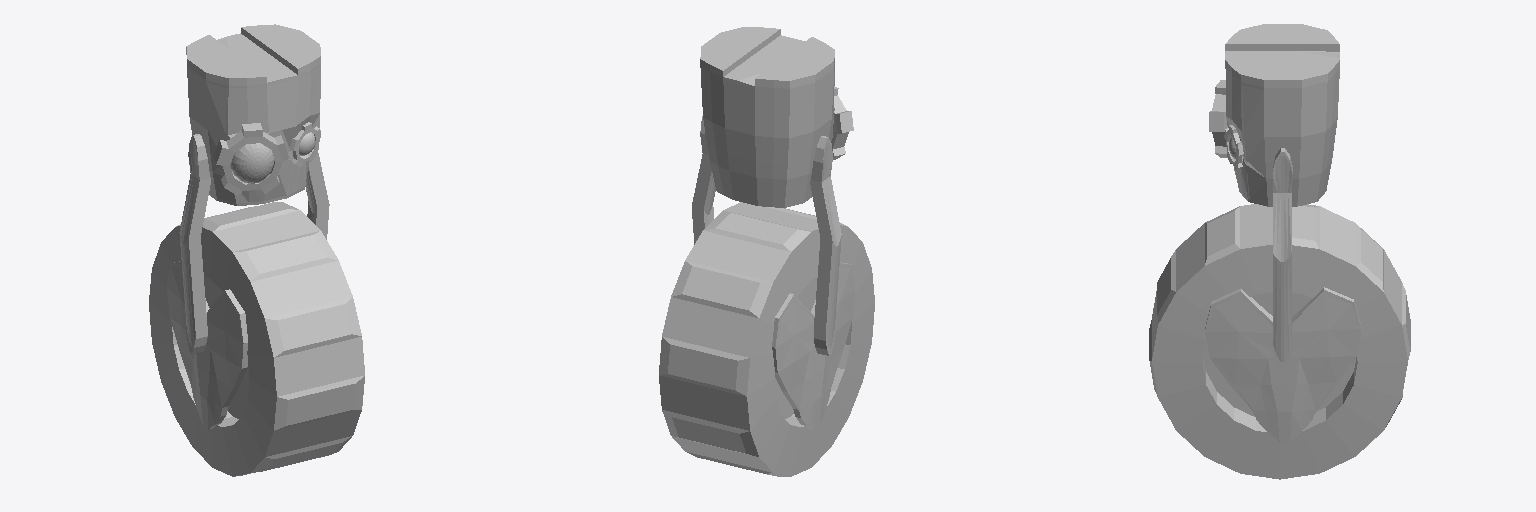
Rendered from Ruedin.obj.
3 views of the same model, side by side, from view 1: azimuth 30°, elevation 25°; view 2: azimuth 150°, elevation 25°; view 3: azimuth 270°, elevation 25° (orthographic).
Visible parts, largest first — view 1: pTorus4_Untitled.005, cabeza_Untitled, pPlane2_group3_Untitled.003, pCube3_group1_Untitled.004, pTorus5_Untitled.002, pSphere1_Untitled.009, pCube3_group002_Untitled.001, pCylinder1_Untitled.006, pTorus006_Untitled.010; view 2: pTorus4_Untitled.005, cabeza_Untitled, pPlane2_group3_Untitled.003, pCube3_group1_Untitled.004, pCube3_group002_Untitled.001, pTorus5_Untitled.002, pCylinder1_Untitled.006; view 3: pTorus4_Untitled.005, cabeza_Untitled, pPlane2_group004_Untitled.007, pCube3_group002_Untitled.001, pCylinder1_Untitled.006, pTorus5_Untitled.002.
Boxes of the visible parts, <box> form: pTorus4_Untitled.005: <box>149,202,364,476</box>; cabeza_Untitled: <box>186,24,320,205</box>; pPlane2_group3_Untitled.003: <box>167,261,247,429</box>; pCube3_group1_Untitled.004: <box>179,134,210,353</box>; pTorus5_Untitled.002: <box>213,123,288,195</box>; pSphere1_Untitled.009: <box>230,143,274,183</box>; pCube3_group002_Untitled.001: <box>305,130,329,239</box>; pCylinder1_Untitled.006: <box>204,276,248,418</box>; pTorus006_Untitled.010: <box>290,122,320,166</box>; pTorus4_Untitled.005: <box>659,202,874,476</box>; cabeza_Untitled: <box>700,27,834,207</box>; pPlane2_group3_Untitled.003: <box>772,262,854,430</box>; pCube3_group1_Untitled.004: <box>810,136,841,355</box>; pCube3_group002_Untitled.001: <box>692,116,715,244</box>; pTorus5_Untitled.002: <box>831,86,853,159</box>; pCylinder1_Untitled.006: <box>775,277,817,418</box>; pTorus4_Untitled.005: <box>1149,204,1410,479</box>; cabeza_Untitled: <box>1225,24,1339,206</box>; pPlane2_group004_Untitled.007: <box>1205,287,1361,441</box>; pCube3_group002_Untitled.001: <box>1272,148,1292,369</box>; pCylinder1_Untitled.006: <box>1203,292,1355,416</box>; pTorus5_Untitled.002: <box>1209,80,1227,157</box>.
Bounding box in the file's own units: 0.254 × 0.6996 × 0.4068.